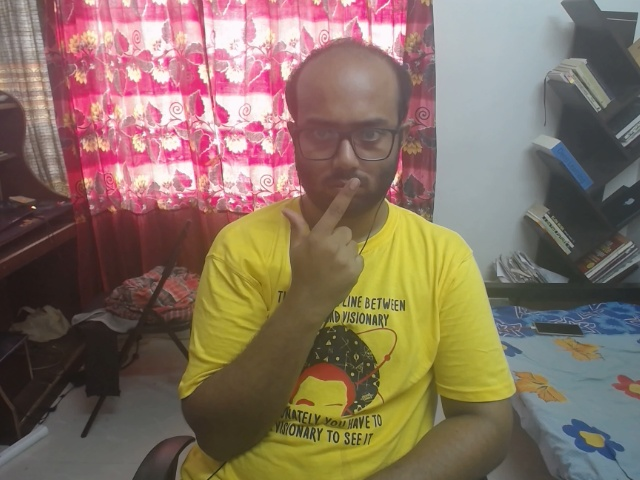seven: (268, 156, 394, 306)
